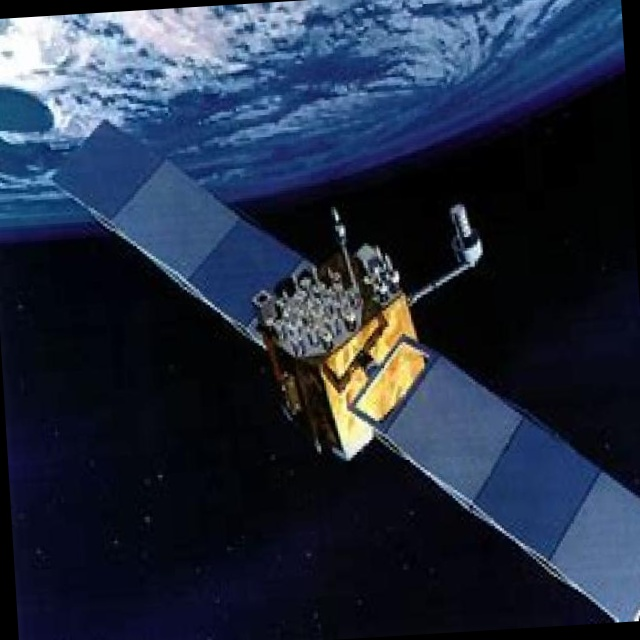satellite: (49, 85, 640, 640)
